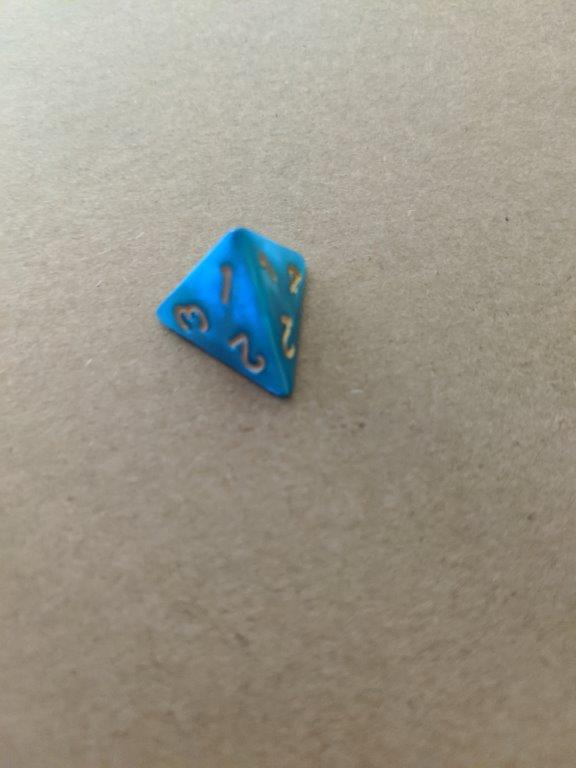d4-1: (152, 225, 310, 405)
